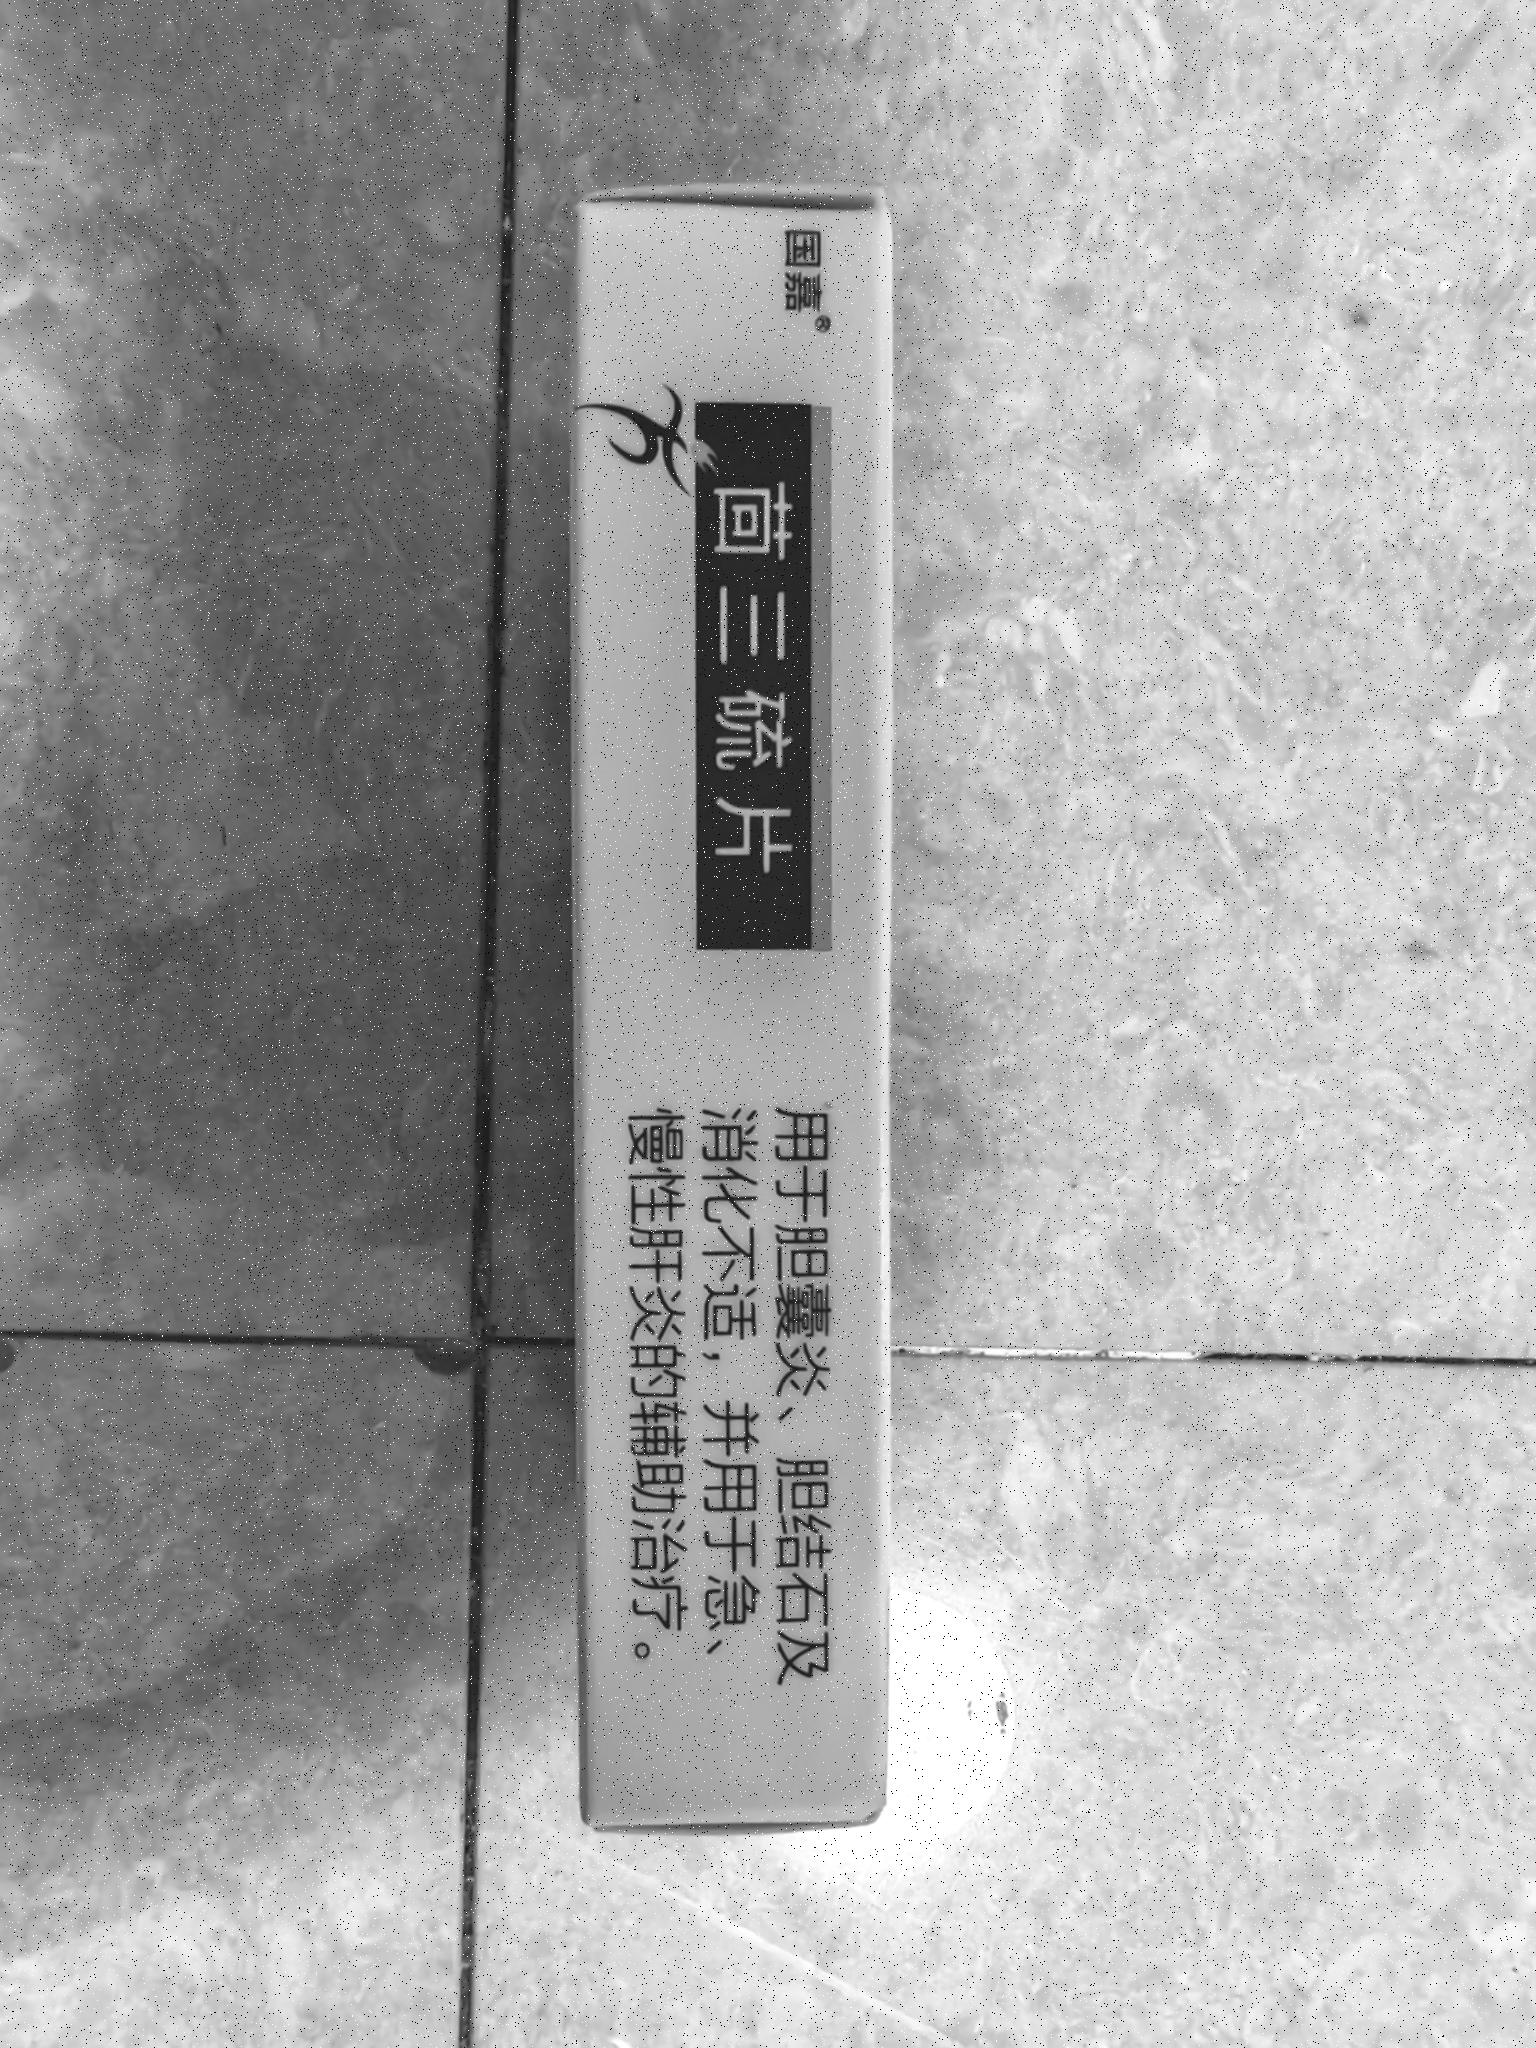Medicine4: (529, 163, 933, 1867)
